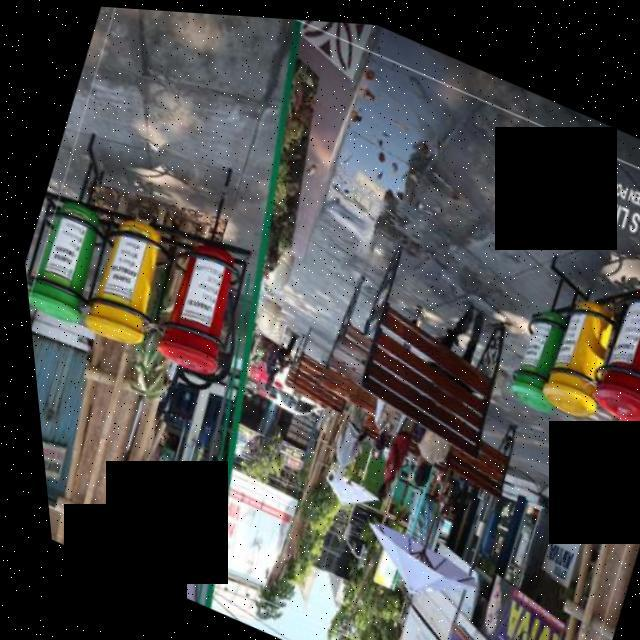bin: (129, 212, 266, 391), (63, 193, 186, 355), (13, 176, 123, 339), (519, 273, 629, 425), (483, 288, 583, 420), (568, 265, 640, 438)
